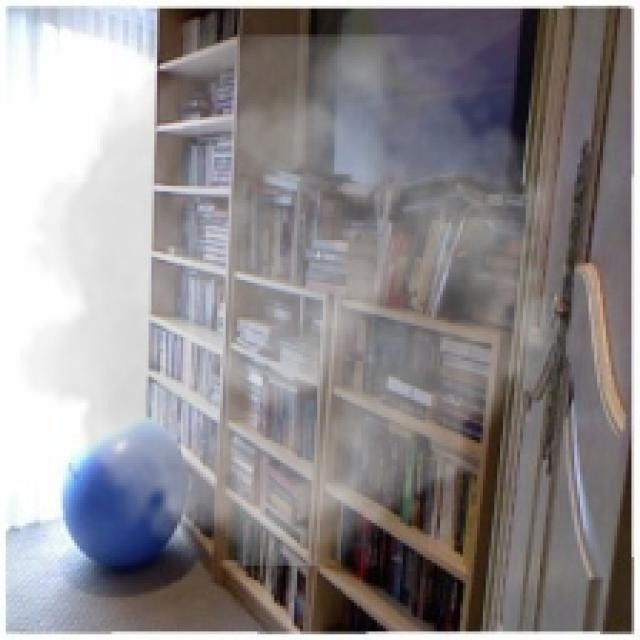Smoke: (20, 34, 583, 566)
